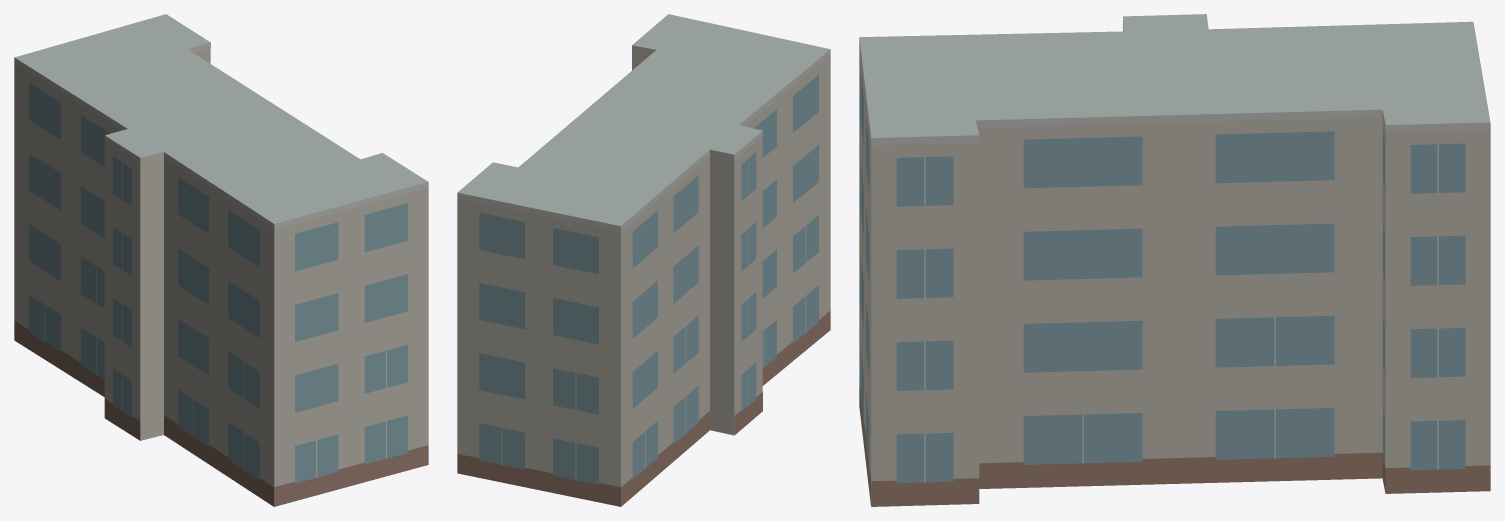
The model's file is survey-upis-32906436.glb.
The picture shows the model from 3 angles, left to right: view 1: azimuth 30°, elevation 25°; view 2: azimuth 150°, elevation 25°; view 3: azimuth 270°, elevation 25°; orthographic projection. The views are drawn at different scales.
Visible parts, largest first — view 1: survey-upis-32906436.tmp; view 2: survey-upis-32906436.tmp; view 3: survey-upis-32906436.tmp.
Boxes of the visible parts, x1,y1,x2,y2 form: survey-upis-32906436.tmp: (14, 14, 428, 506); survey-upis-32906436.tmp: (457, 14, 830, 506); survey-upis-32906436.tmp: (859, 14, 1490, 506).
Bounding box in the file's own units: 8.82 × 12.2 × 18.94.
